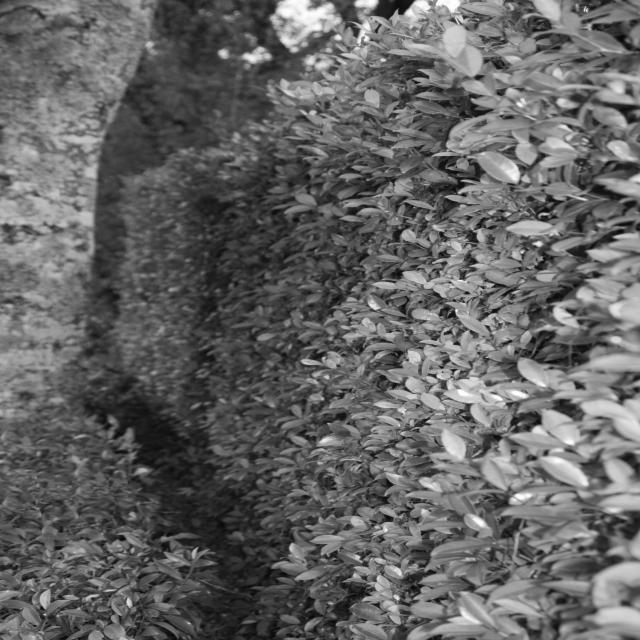Syzygium Resilience: (135, 161, 640, 410)
